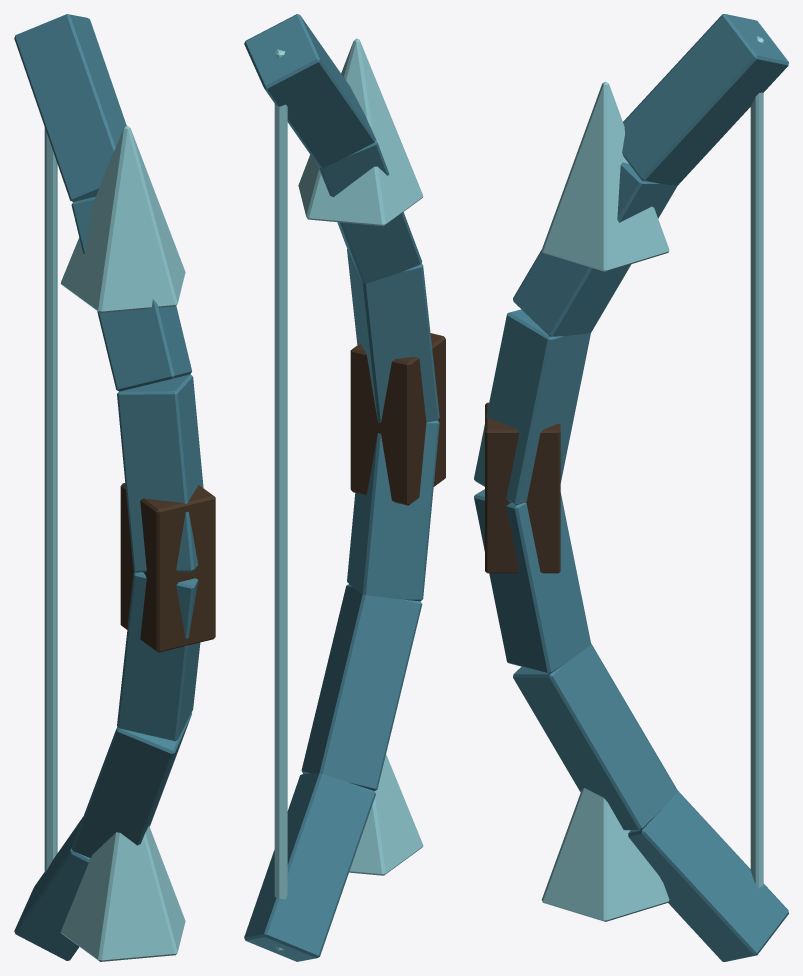
Rendered from archer_ice.glb.
3 renders of one model, left to right at view 1: azimuth 30°, elevation 25°; view 2: azimuth 150°, elevation 25°; view 3: azimuth 270°, elevation 25°, orthographic.
Visible parts, largest first — view 1: weapon.019; view 2: weapon.019; view 3: weapon.019.
Boxes of the visible parts, x1,y1,x2,y2 form: weapon.019: [14, 14, 215, 961]; weapon.019: [244, 14, 445, 961]; weapon.019: [474, 14, 788, 961].
Size of the model in its own units: 0.1765 by 1.52 by 0.4567.
